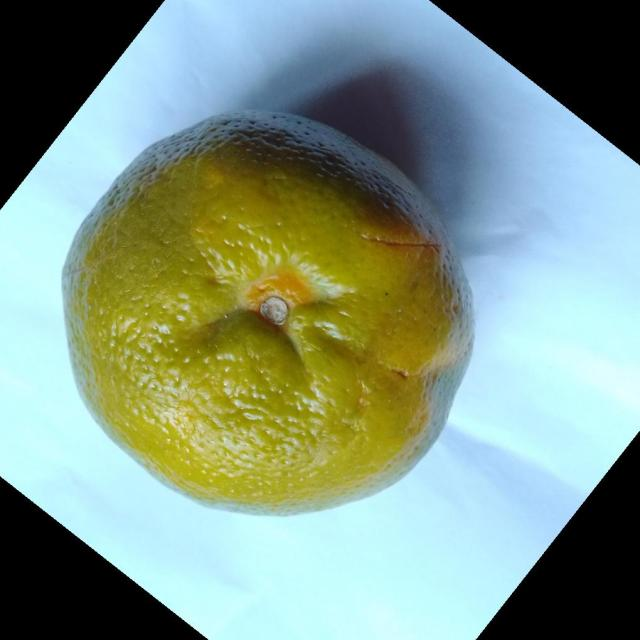fresh orange: (59, 107, 476, 518)
